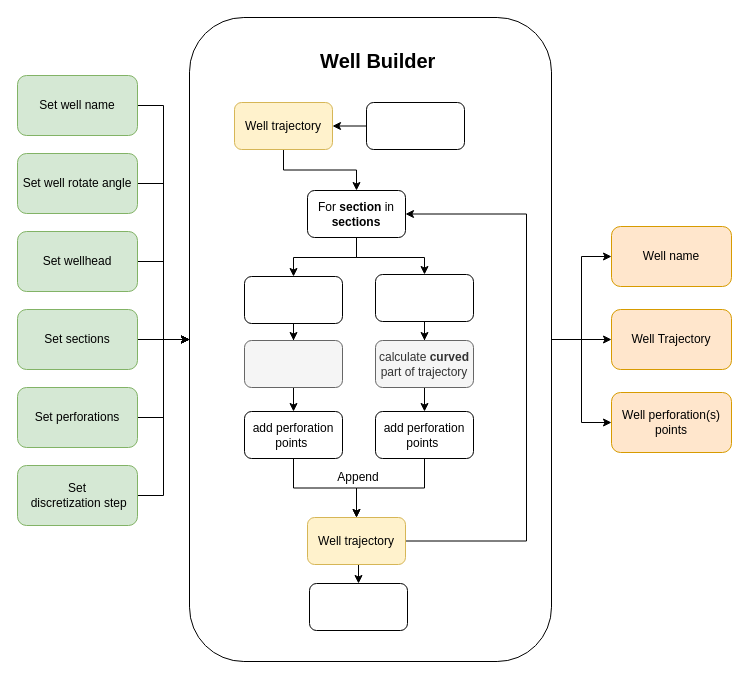
The diagram is 749 pixels wide and 679 high, and some of its shapes have lost their labels. The shapes that lost their labels are listed below. From the top down, each one's centre as x and y in pixels, then its label:
At pixel 415 126: "wellhead".
At pixel 293 300: "if section is linear".
At pixel 424 298: "if section is curved".
At pixel 293 364: "calculate linear part of trajectory".
At pixel 358 606: "Rotate well".
